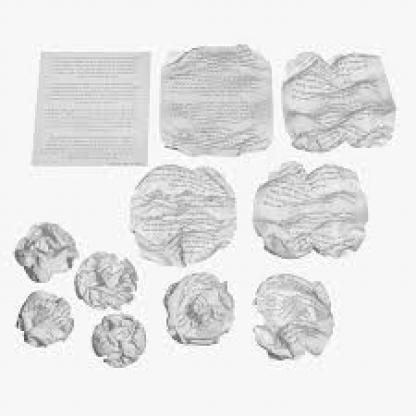paper: (27, 48, 150, 166), (157, 42, 272, 155), (279, 48, 394, 150), (127, 163, 236, 266), (255, 163, 364, 253), (251, 272, 333, 358), (163, 270, 231, 344), (13, 222, 76, 283), (72, 249, 135, 308), (13, 288, 72, 346), (90, 311, 142, 364)
